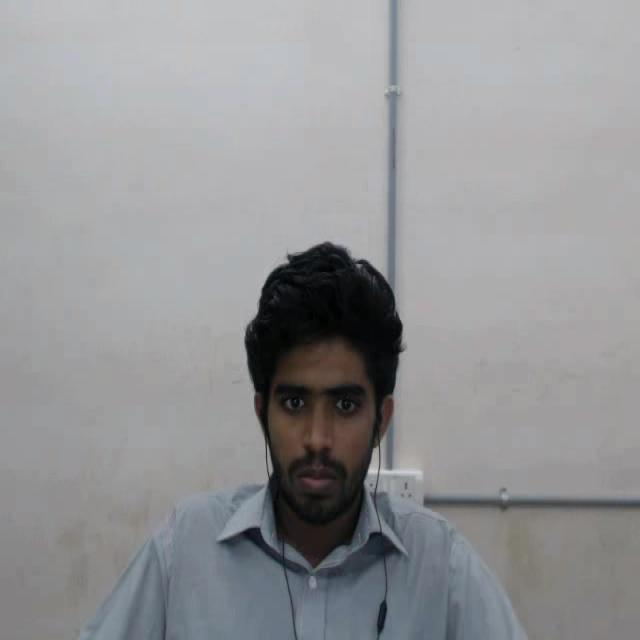Engaged: (191, 219, 451, 586)
